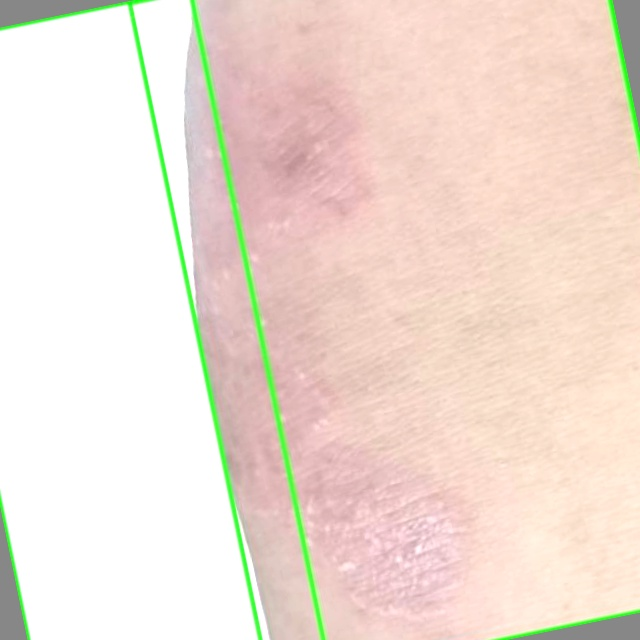Eczema: (130, 0, 639, 639), (0, 0, 323, 639)
